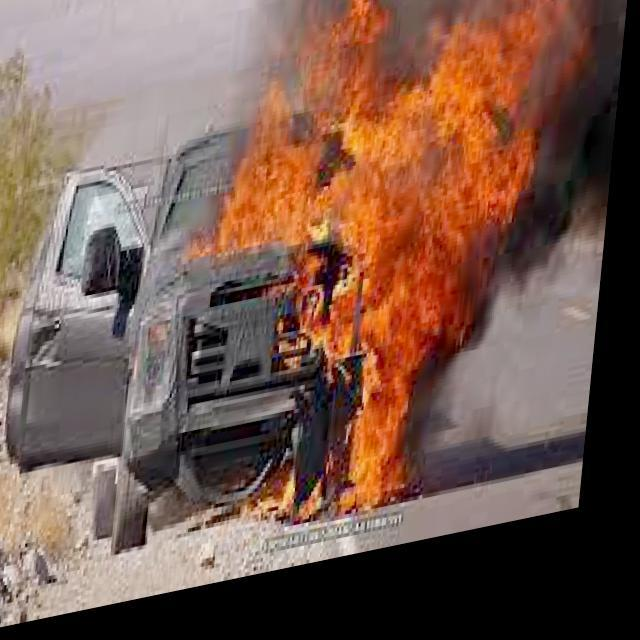Fire: (184, 0, 584, 557)
